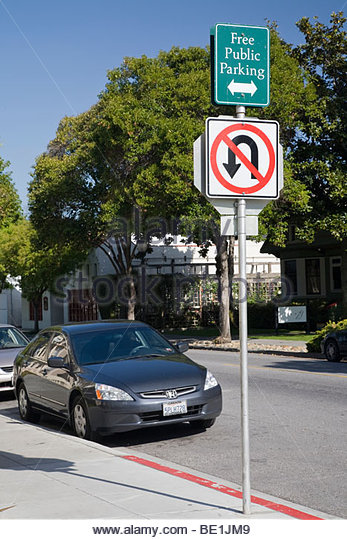No_u_turn: (210, 123, 275, 194)
